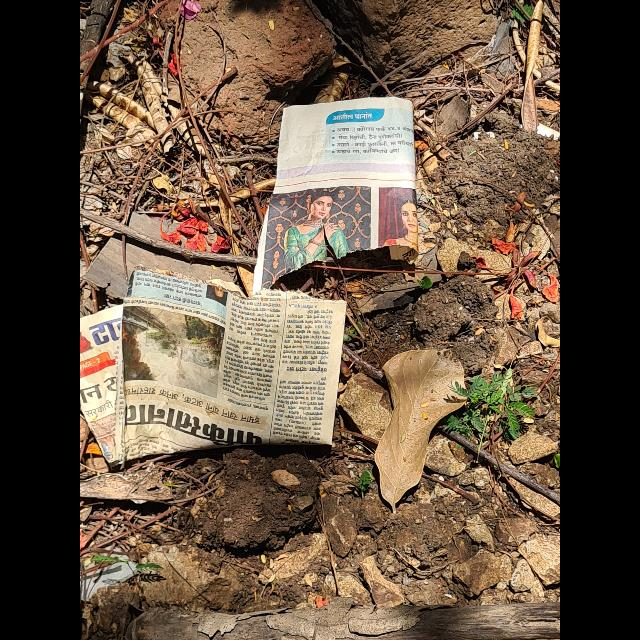trash: (81, 268, 347, 468), (252, 96, 418, 294), (374, 348, 468, 514), (274, 96, 416, 194), (80, 303, 126, 467)
